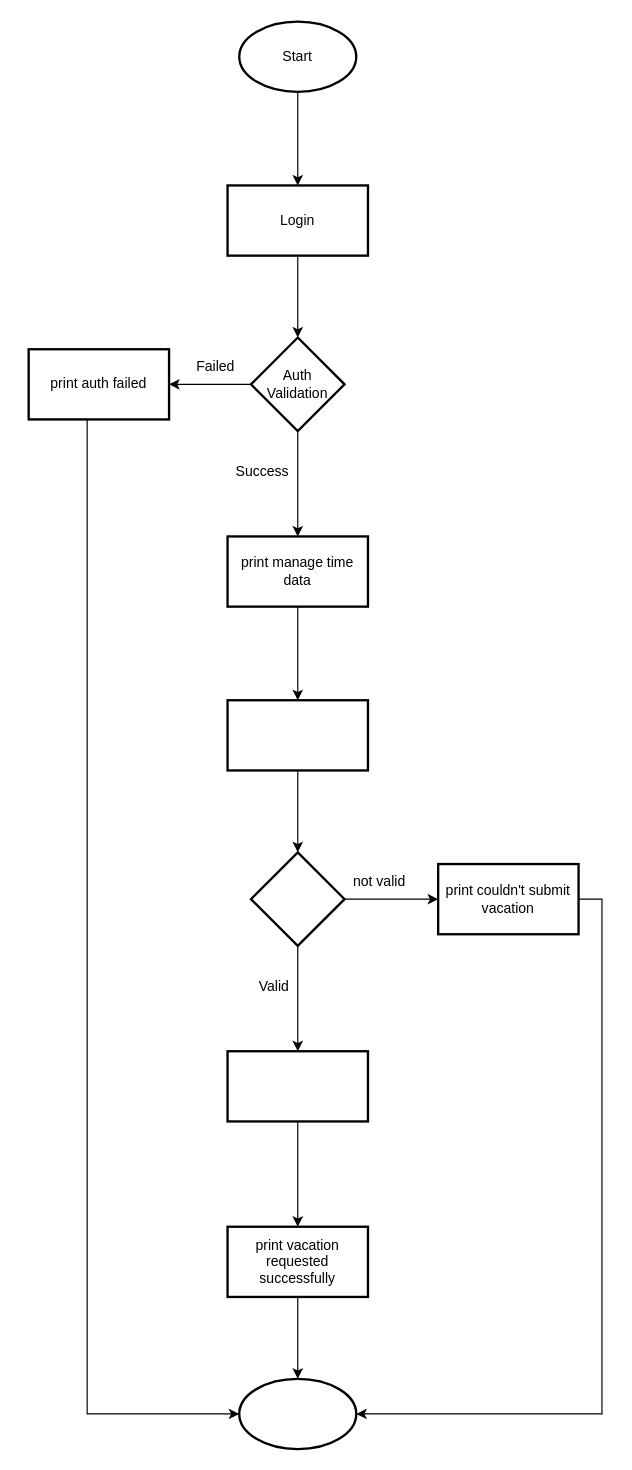
The diagram is 632 pixels wide and 1470 high, and some of its shapes have lost their labels. The shapes that lost their labels are listed below. From the top down, each one's centre as x and y in pixels, then its label:
At point 297,734: "submit vacation".
At point 297,899: "validate request".
At point 297,1085: "store vacation req. in database".
At point 297,1413: "End".
